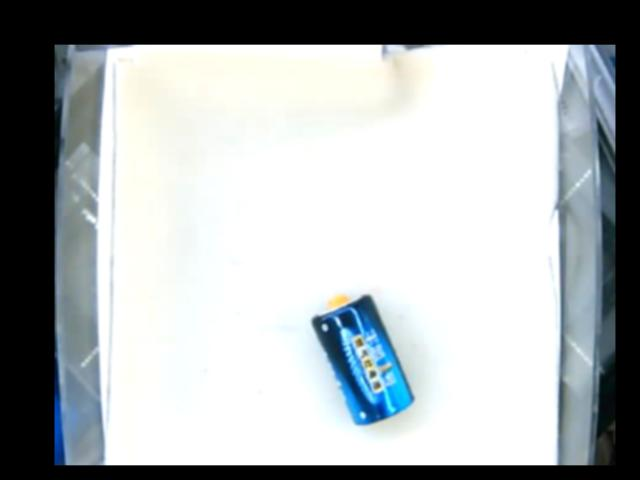Battery: (310, 294, 413, 425)
